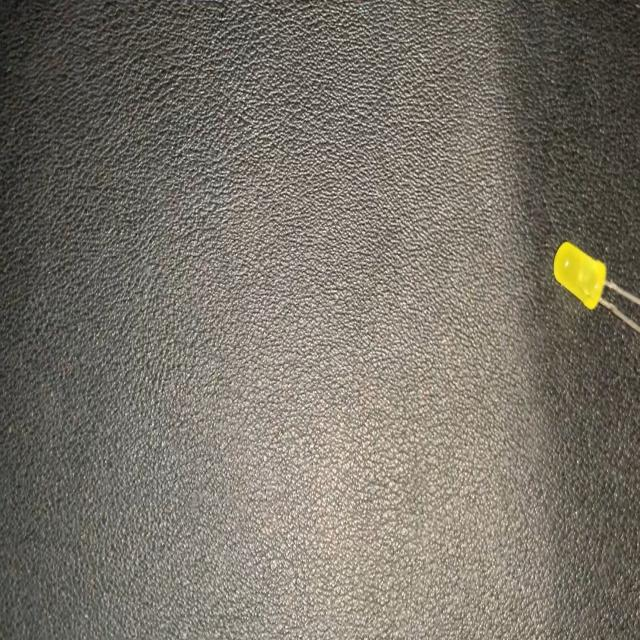LED: (552, 235, 640, 335)
